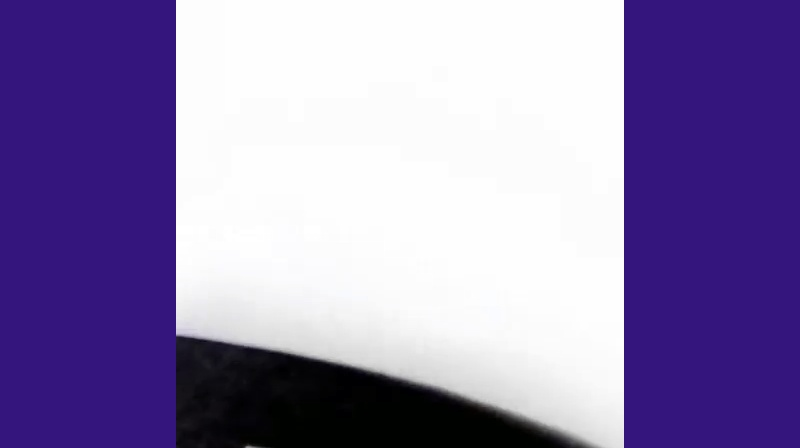O002: (225, 440, 396, 447)
